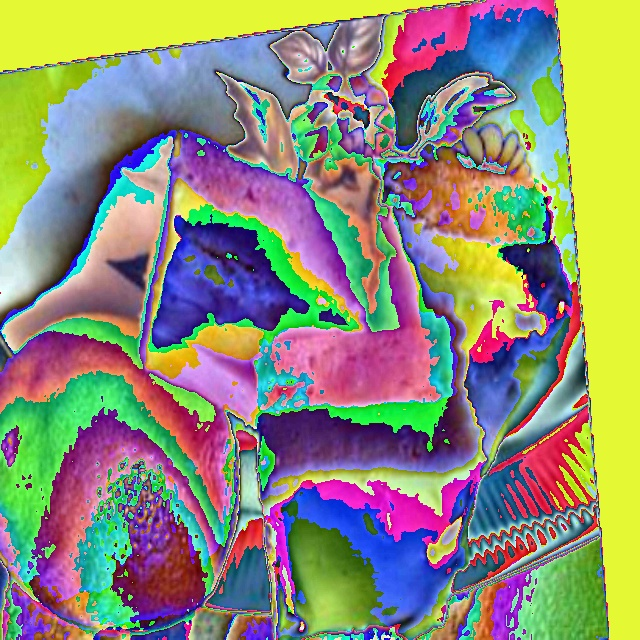background: (0, 132, 572, 639)
